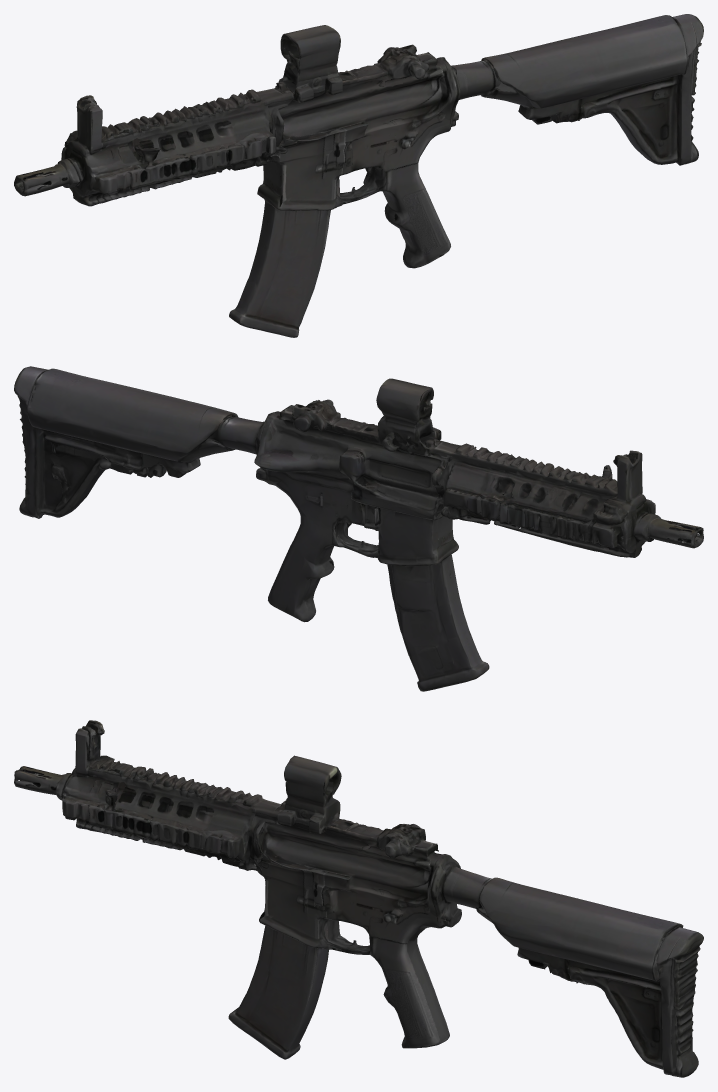
The picture shows the model from 3 angles, top to bottom: view 1: azimuth 30°, elevation 25°; view 2: azimuth 150°, elevation 25°; view 3: azimuth 330°, elevation 25°; orthographic projection.
Size of the model in its own units: 2 by 0.8397 by 0.2506.
1 material, 1 textured.
